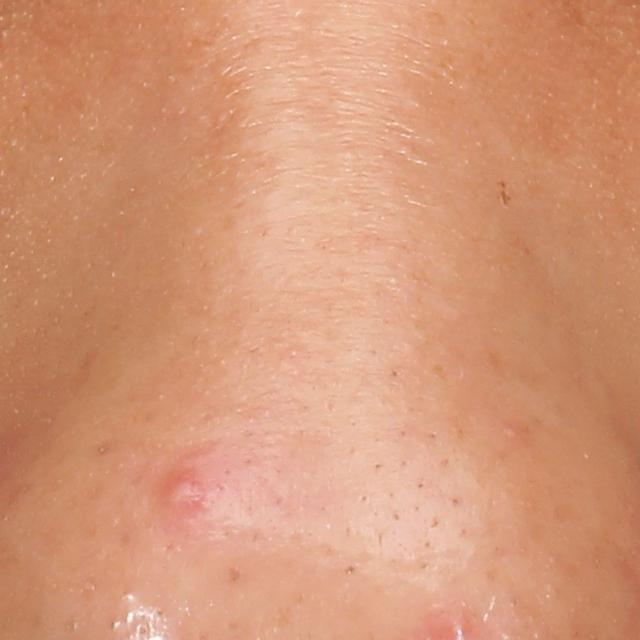melasma: (495, 174, 515, 216)
